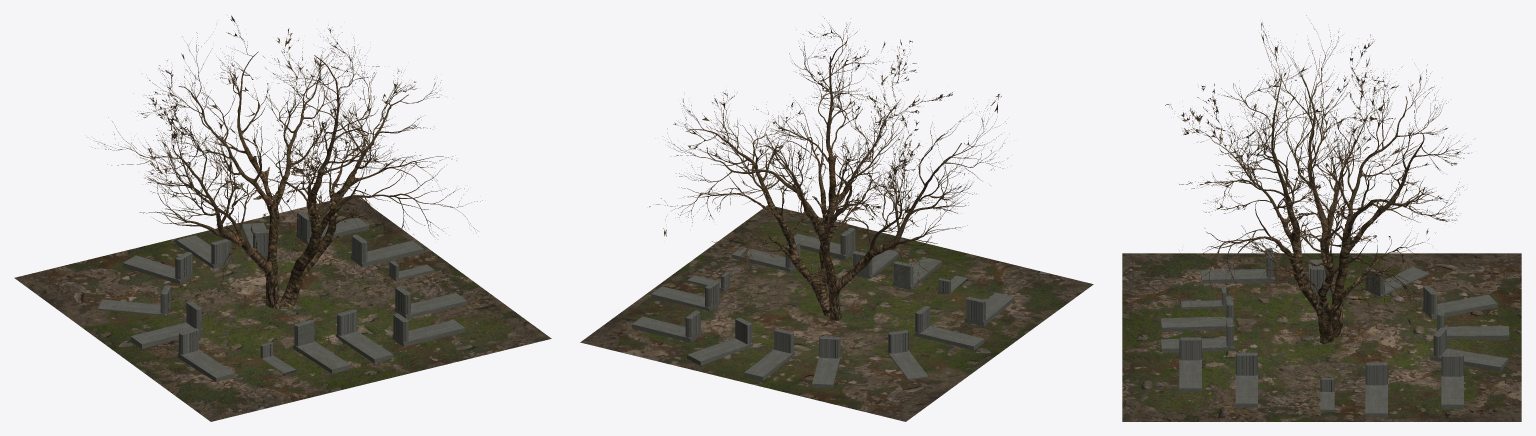
The model's file is graveyard_map.glb.
3 views of the same model, side by side, from view 1: azimuth 30°, elevation 25°; view 2: azimuth 150°, elevation 25°; view 3: azimuth 270°, elevation 25° (orthographic). The views are drawn at different scales.
Parts seen in each view (by area): view 1: gy_terrain, gy_branches, gy_tombs, gy_trunk; view 2: gy_terrain, gy_branches, gy_tombs, gy_trunk; view 3: gy_terrain, gy_branches, gy_tombs, gy_trunk.
Part boxes in pixels (left/top/right/bottom): gy_terrain: left=14, top=195, right=551, bottom=421; gy_branches: left=87, top=15, right=482, bottom=311; gy_tombs: left=97, top=211, right=467, bottom=382; gy_trunk: left=226, top=156, right=360, bottom=309; gy_terrain: left=580, top=205, right=1093, bottom=421; gy_branches: left=649, top=18, right=1007, bottom=290; gy_tombs: left=632, top=228, right=1014, bottom=388; gy_trunk: left=756, top=156, right=882, bottom=320; gy_terrain: left=1122, top=253, right=1521, bottom=421; gy_branches: left=1165, top=15, right=1475, bottom=331; gy_tombs: left=1160, top=248, right=1509, bottom=417; gy_trunk: left=1277, top=198, right=1386, bottom=343.
Bounding box in the file's own units: 24.62 × 19.55 × 23.27.
Materials: 4 (4 with a texture image).
